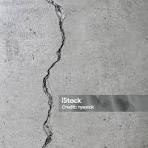Crack: (38, 0, 70, 148)
